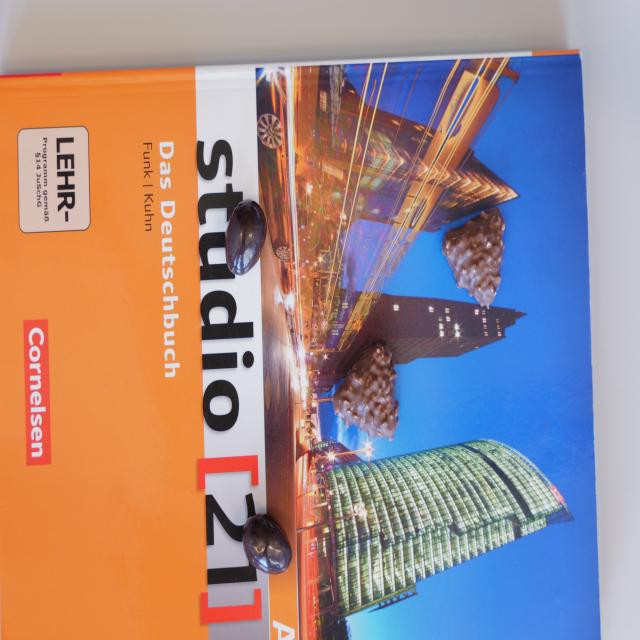Jelly_Black: (242, 508, 293, 576), (224, 198, 268, 276)
